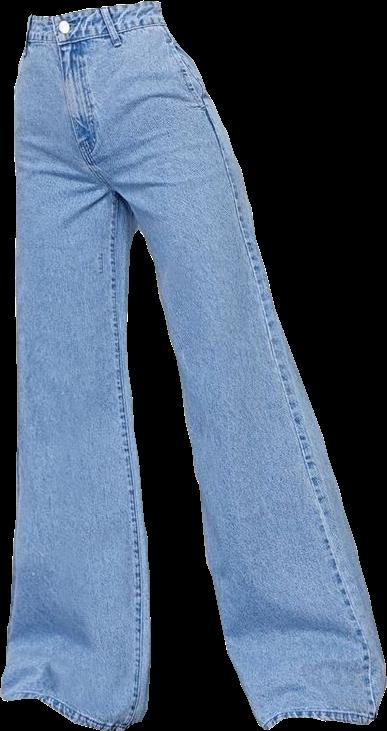Hemline: (262, 684, 386, 730), (1, 692, 148, 727)
Pantleg: (51, 1, 385, 728), (1, 13, 150, 727)
Waistline: (24, 15, 167, 50), (24, 0, 160, 24)
